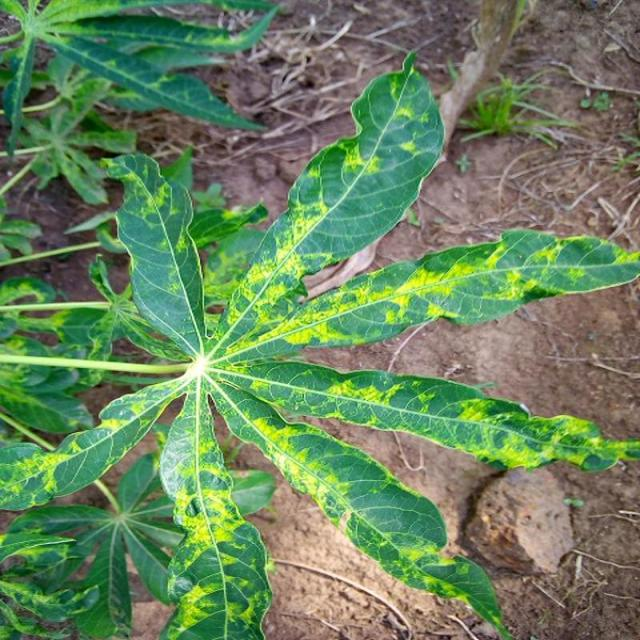Mosaico: (129, 122, 640, 613)
